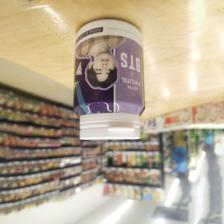Xylitol_BTS: (72, 17, 147, 142)
